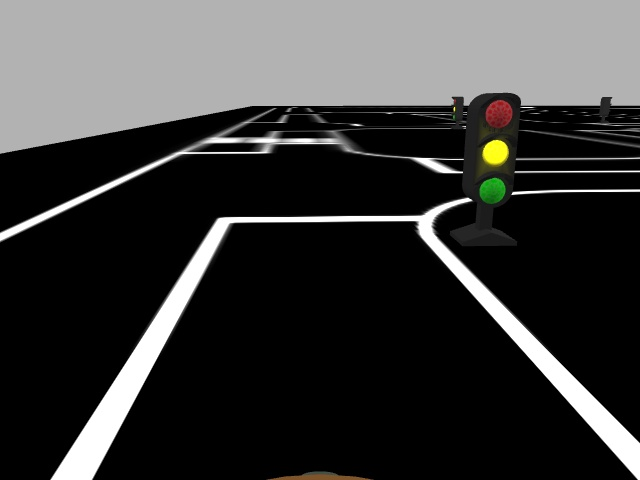yellow_light: (468, 92, 521, 206)
